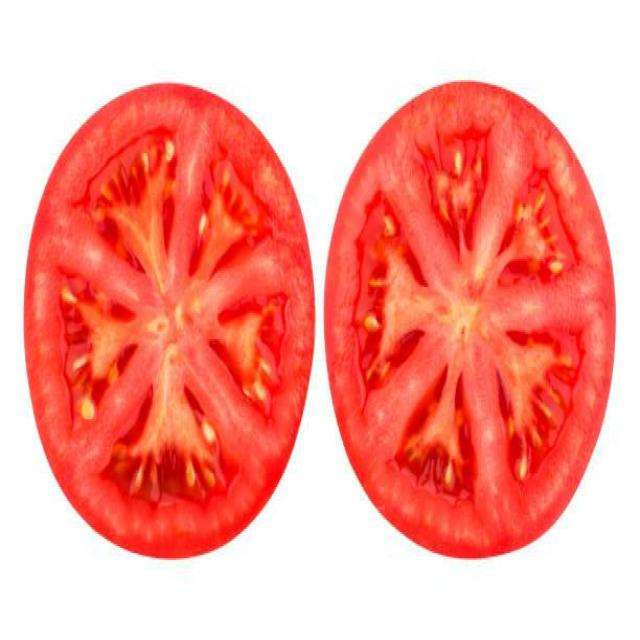Tomato: (327, 78, 623, 564), (23, 74, 317, 560)
